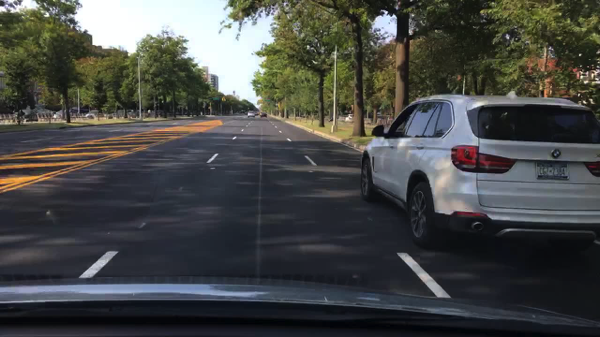car: (359, 94, 599, 257), (15, 108, 38, 122), (52, 108, 79, 119), (37, 107, 56, 119), (84, 110, 103, 120), (125, 107, 135, 118), (345, 115, 355, 123), (247, 110, 255, 119), (255, 111, 261, 116), (262, 113, 267, 118)
traffic light: (223, 96, 225, 102)
traffic sign: (213, 97, 219, 102), (264, 100, 272, 103)
